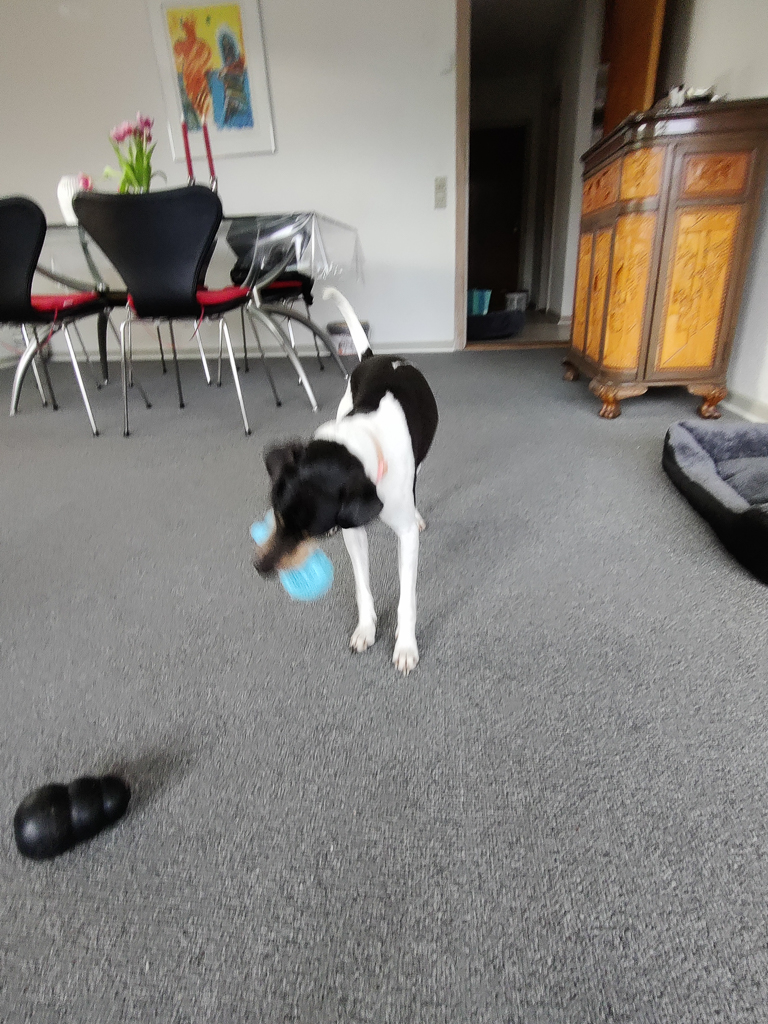Dog: (238, 270, 455, 693)
